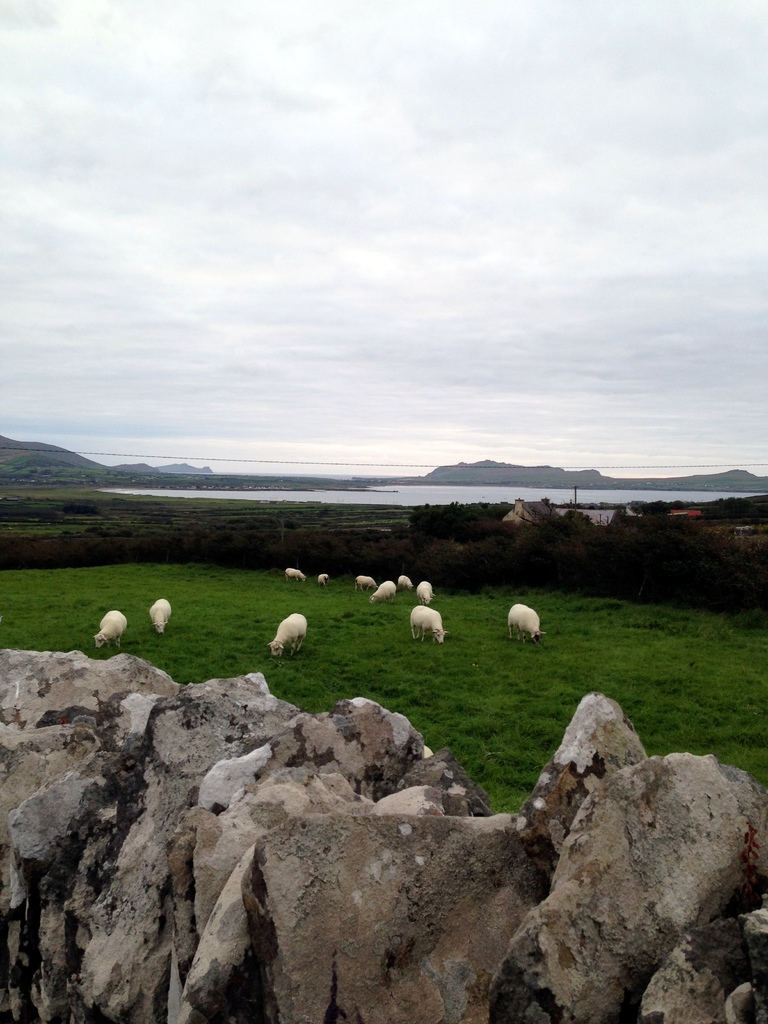sheep: (257, 603, 326, 664), (89, 611, 129, 649), (409, 607, 449, 644), (509, 604, 543, 644), (149, 600, 175, 637), (366, 577, 395, 600), (416, 581, 433, 606), (288, 568, 307, 583), (397, 574, 412, 588), (318, 576, 328, 586)
